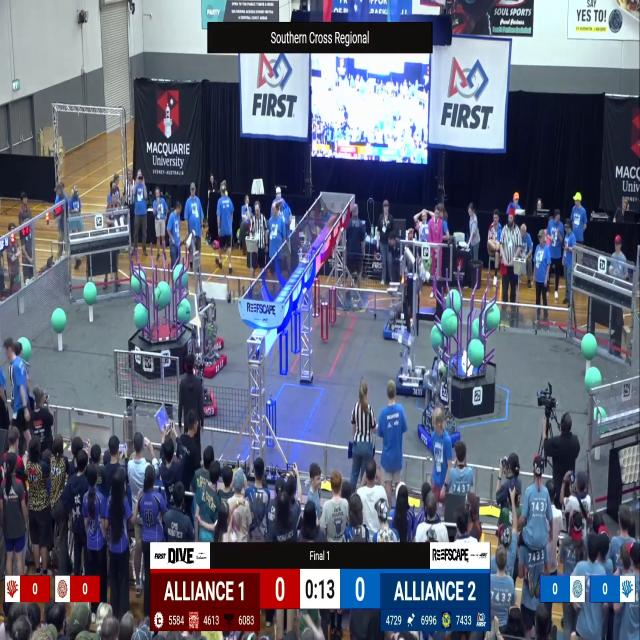scoreboard: (150, 568, 490, 631)
